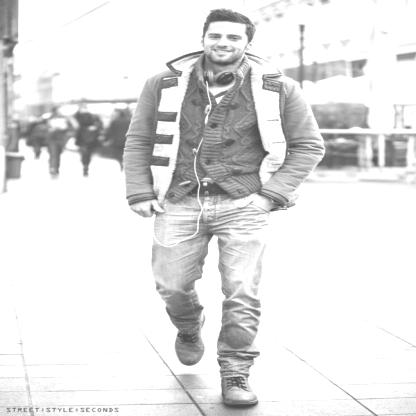dress: (118, 180, 302, 384), (121, 48, 328, 220)
jean: (128, 11, 338, 405)
